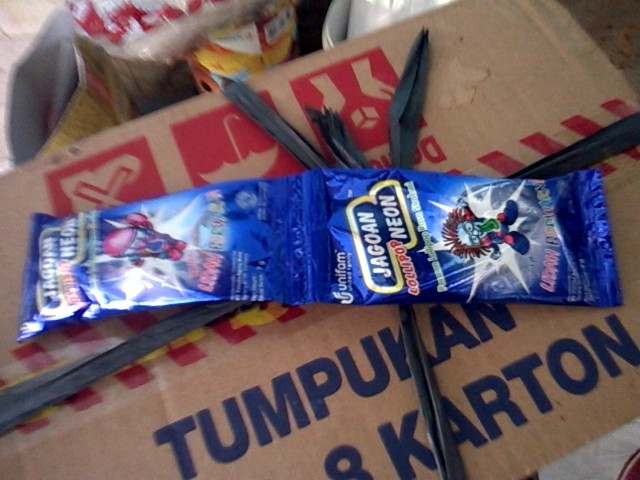jagoan neon: (17, 174, 299, 342), (287, 167, 621, 306)
